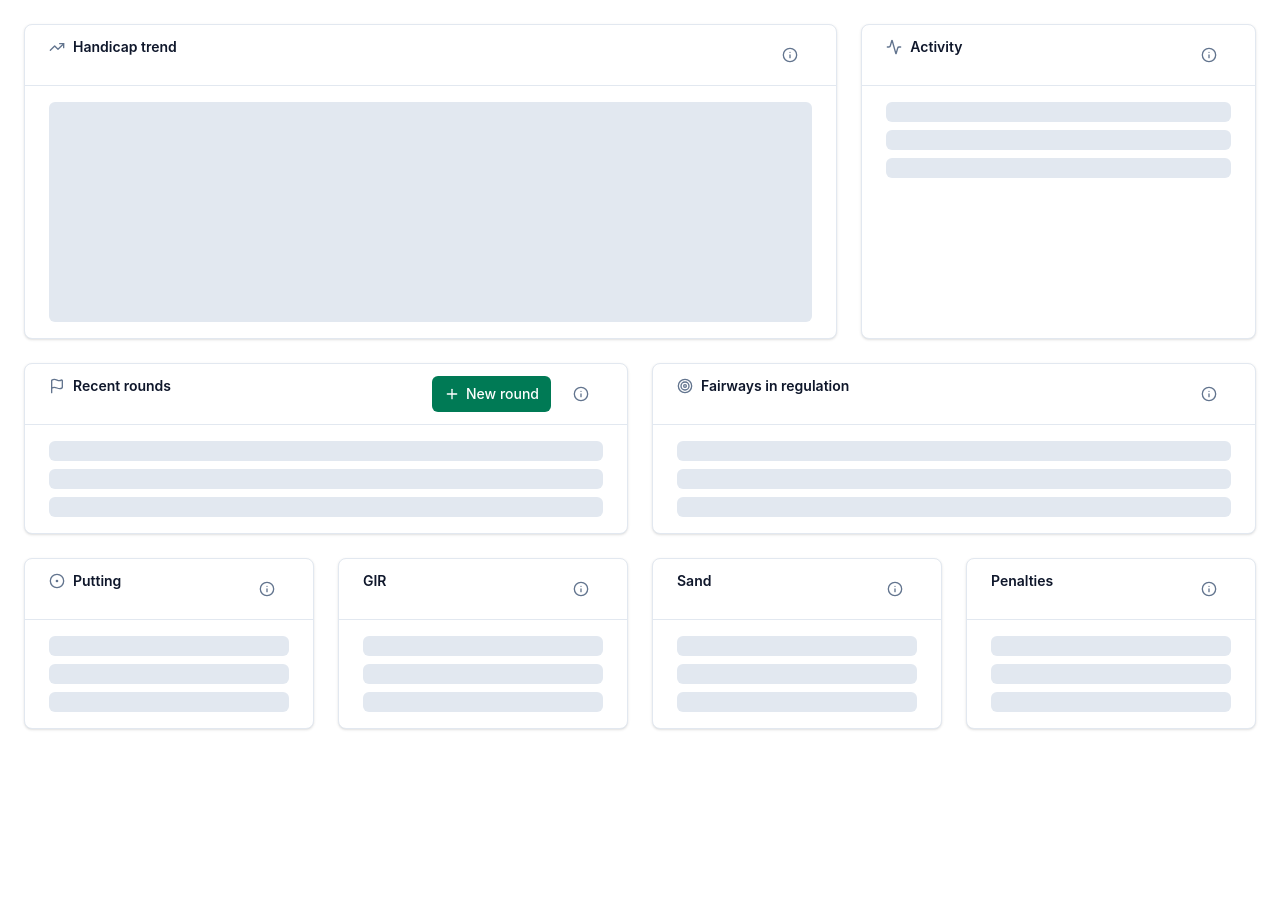
Test case: PlayerDashboardPage › stats-derived widgets (Activity/FIR/Putting/GIR/Sand/Penalties, ghs#178) › ghs#209: a stats widget's info tooltip falls back to generic wording while stats hasn't loaded yet, rather than showing a placeholder number
Hover over the button named "About GIR" at (581, 589), box 559,571 -> 603,607
Wait 400 ms
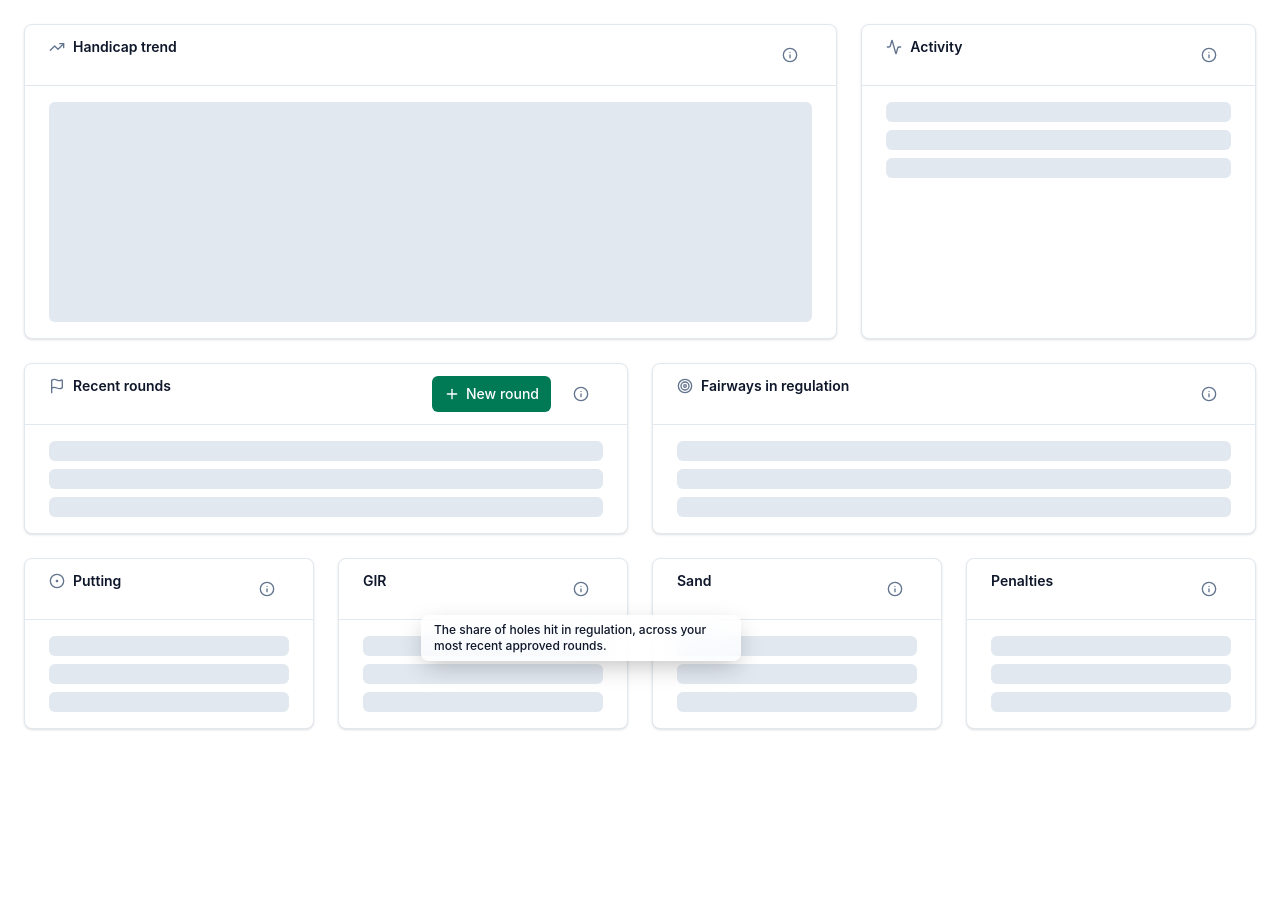
Expected: the tooltip shows "your most recent approved rounds", 434,622 -> 706,653
